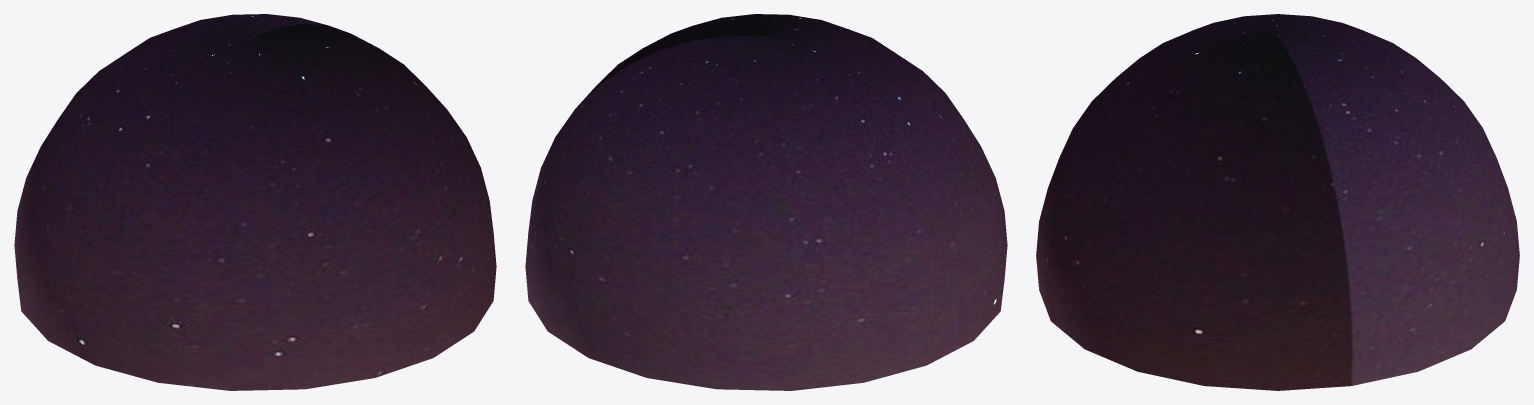
File: lava_arena.glb
3 views of the same model, side by side, from view 1: azimuth 30°, elevation 25°; view 2: azimuth 150°, elevation 25°; view 3: azimuth 270°, elevation 25° (orthographic).
Parts seen in each view (by area): view 1: sky; view 2: sky; view 3: sky.
Part boxes in pixels (bbox=[...]): sky: bbox=[14, 14, 496, 390]; sky: bbox=[525, 14, 1007, 390]; sky: bbox=[1036, 14, 1519, 390].
Size of the model in its own units: 1.25 by 0.7218 by 1.25.
4 materials, 4 textured.
